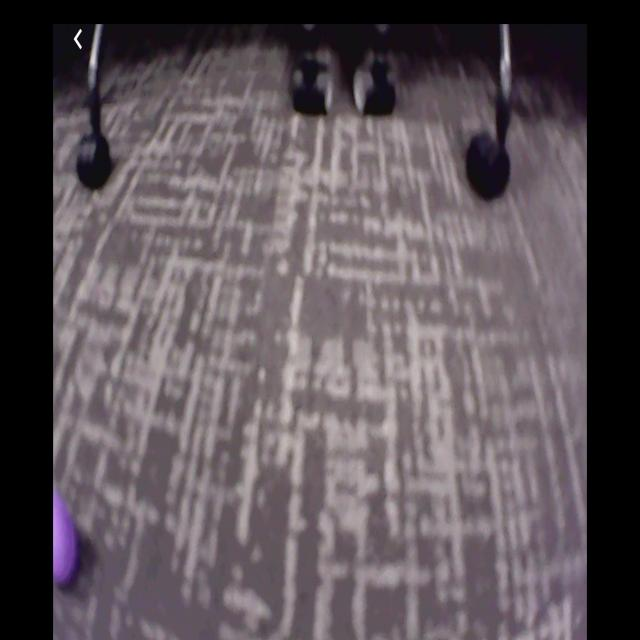ball: (54, 488, 78, 586)
